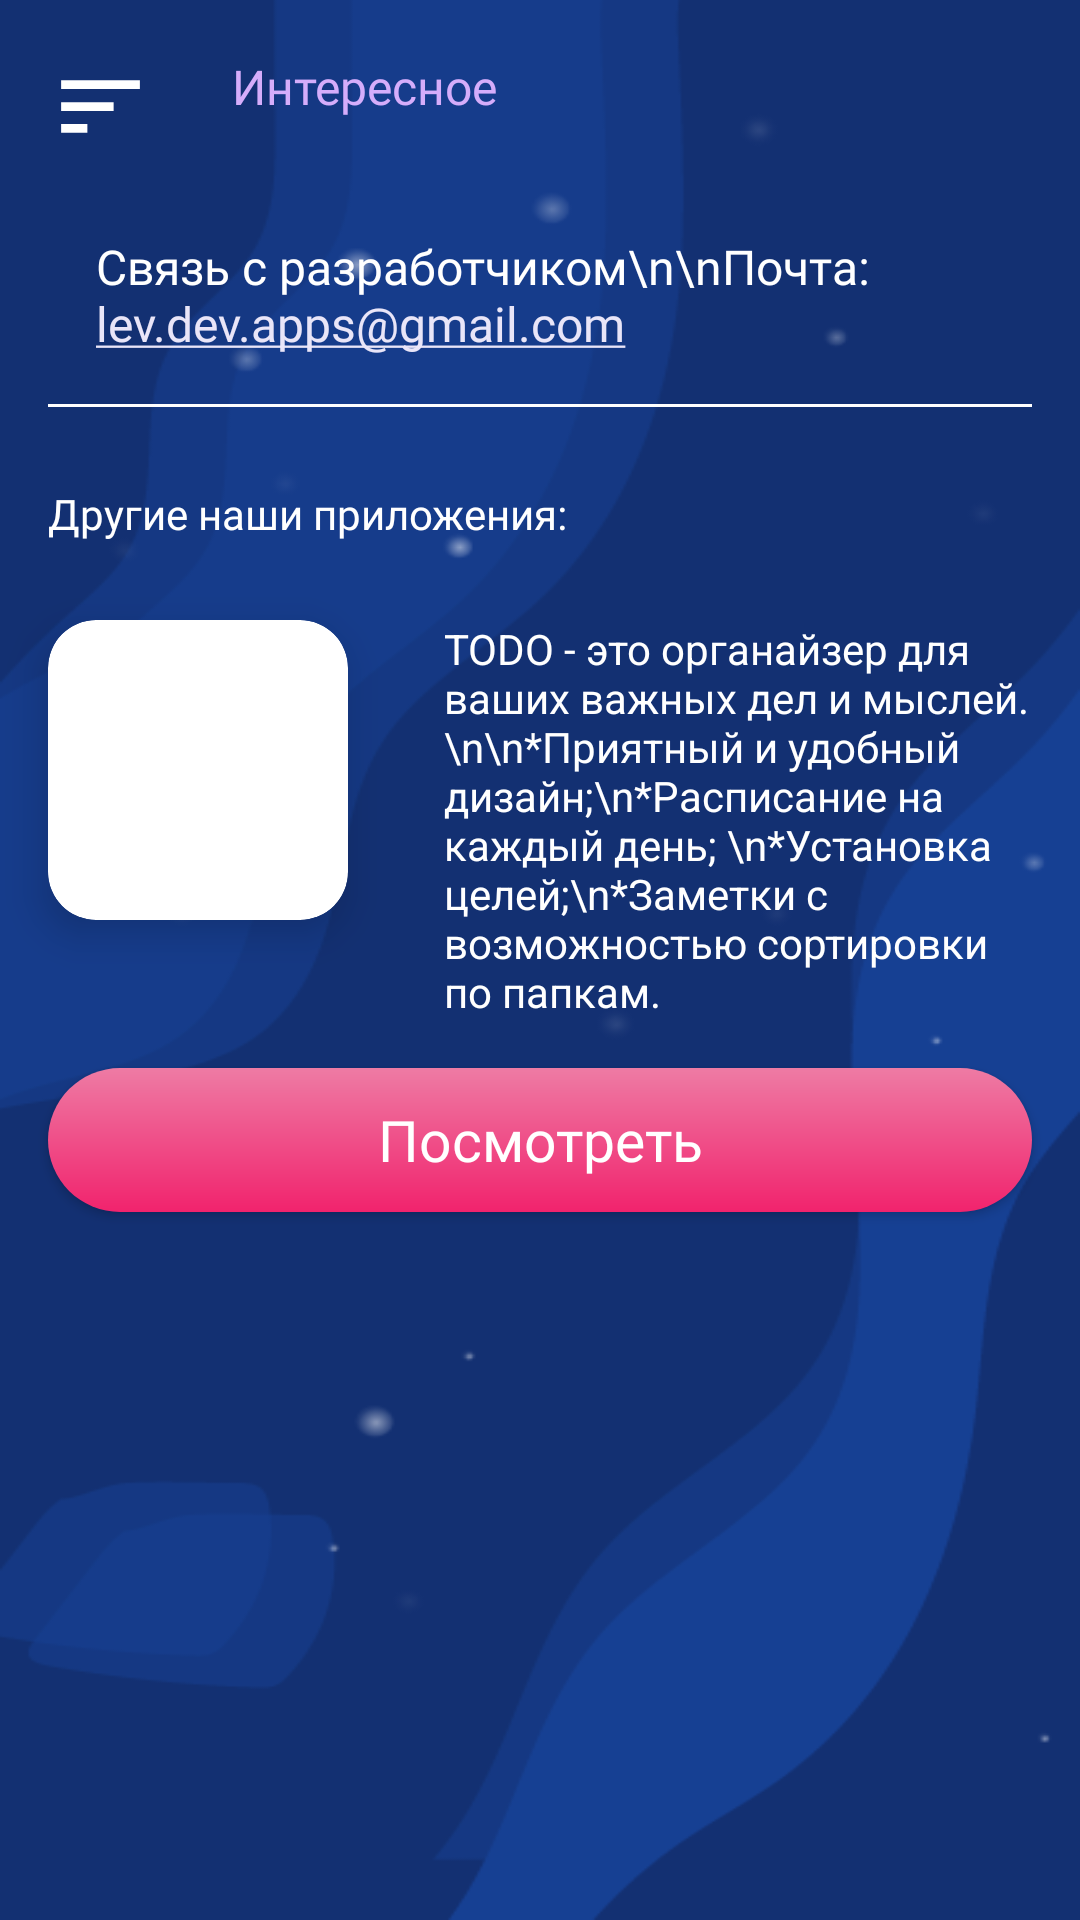

Icon click points for this 1080px×1920px phone screenshot, format [x,y]:
menu: [100,106]
